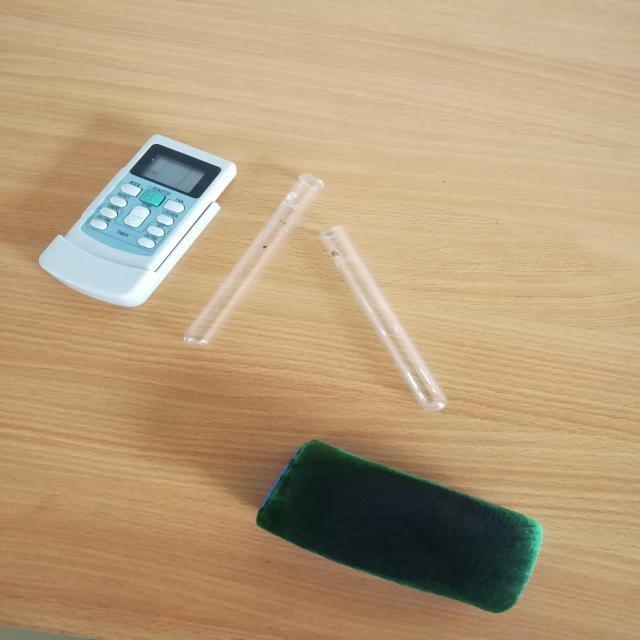Test_Tube: (120, 165, 334, 364), (312, 213, 463, 433)
